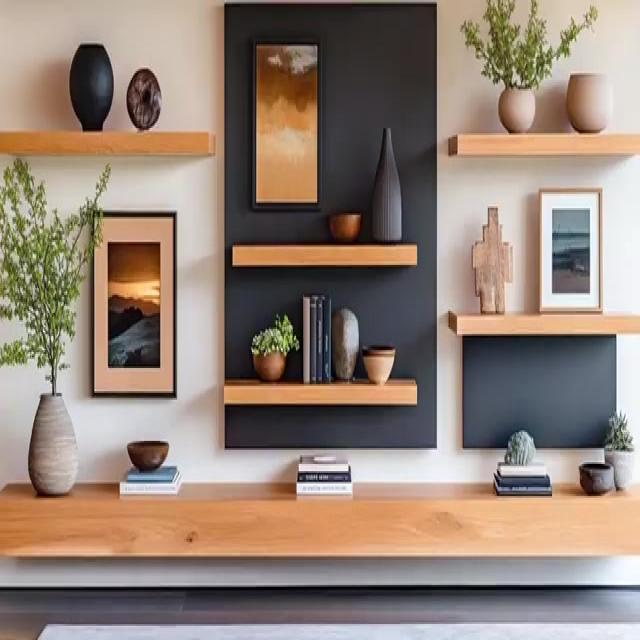obstacle: (0, 478, 639, 588)
